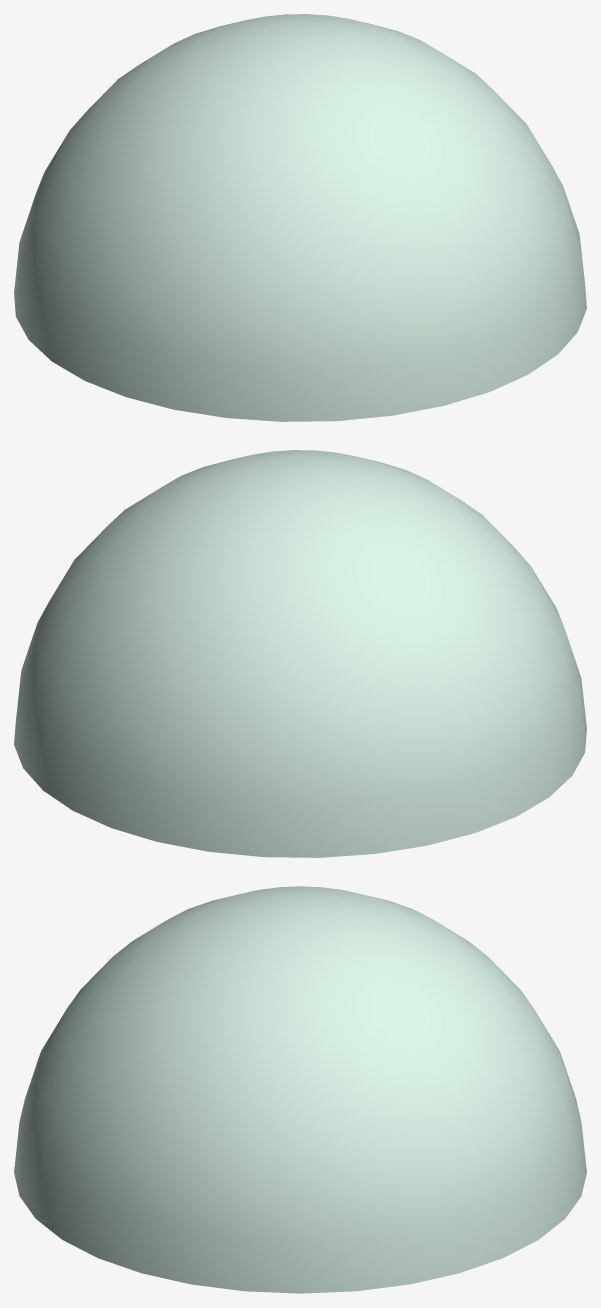
The model's file is INVERNADERO_TRASLUCIDO.fbx.
3 renders of one model, top to bottom at view 1: azimuth 30°, elevation 25°; view 2: azimuth 150°, elevation 25°; view 3: azimuth 270°, elevation 25°, orthographic.
Parts seen in each view (by area): view 1: Inv_DomoGeodesico_Cristal; view 2: Inv_DomoGeodesico_Cristal; view 3: Inv_DomoGeodesico_Cristal.
Boxes of the visible parts, x1,y1,x2,y2 form: Inv_DomoGeodesico_Cristal: (14,14,586,421); Inv_DomoGeodesico_Cristal: (14,450,586,857); Inv_DomoGeodesico_Cristal: (14,886,586,1293).
Bounding box in the file's own units: 1576 × 788 × 1576.
2 materials, 2 textured.
